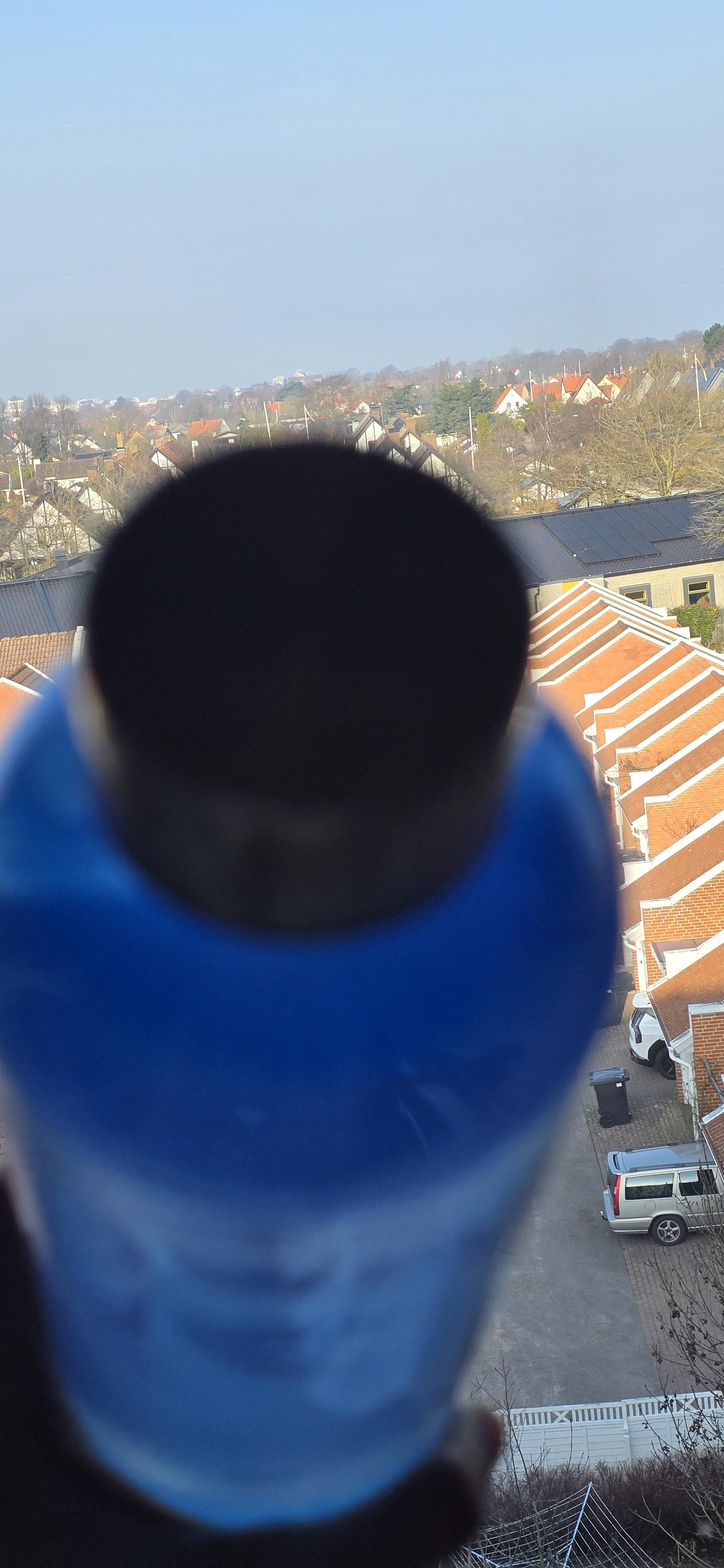bottle: (12, 373, 627, 1546)
